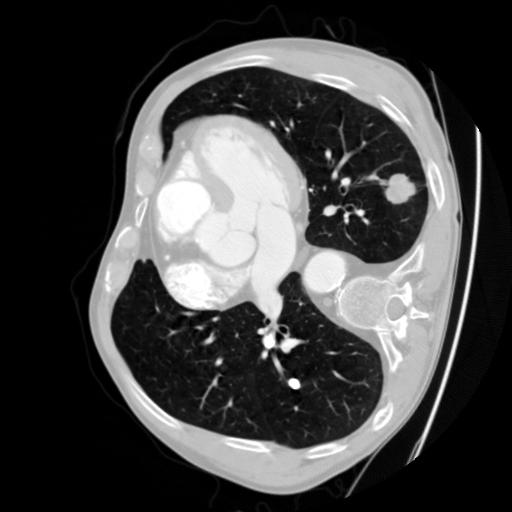nodule: (283, 374, 304, 395)
